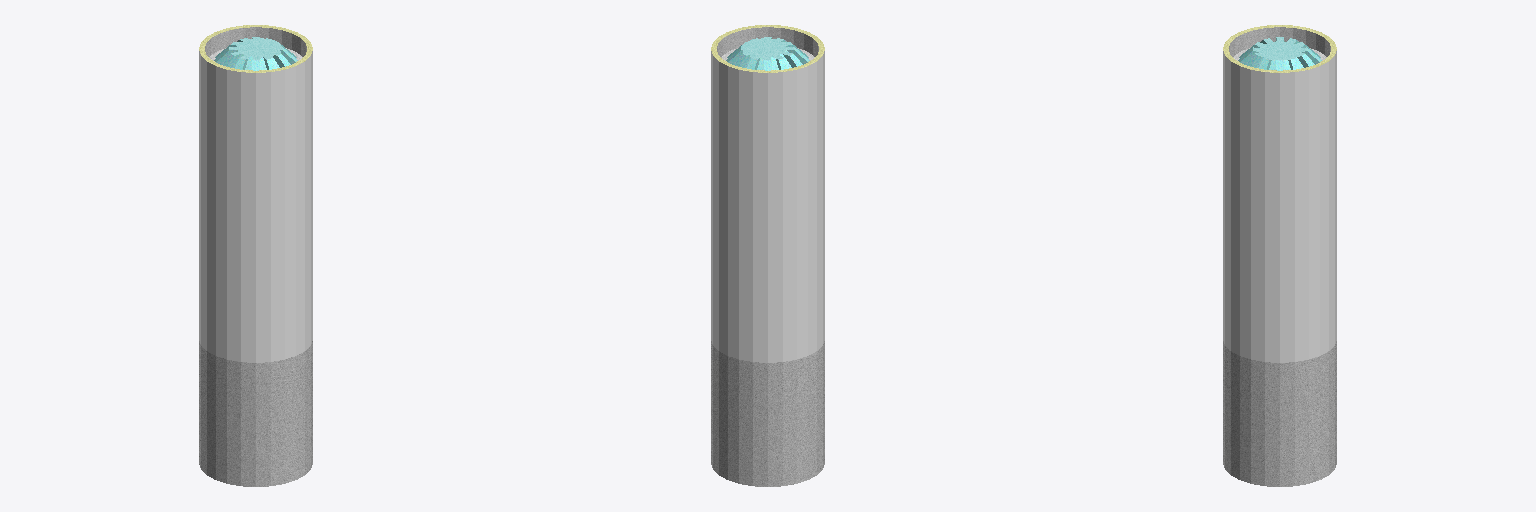
3 views of the same model, side by side, from view 1: azimuth 30°, elevation 25°; view 2: azimuth 150°, elevation 25°; view 3: azimuth 270°, elevation 25° (orthographic).
Visible parts, largest first — view 1: GF-02Tube, PG-02Shroud, PG-02DecShroud, GF-02Cap; view 2: GF-02Tube, PG-02Shroud, PG-02DecShroud, GF-02Cap; view 3: GF-02Tube, PG-02Shroud, PG-02DecShroud, GF-02Cap.
Boxes of the visible parts, x1,y1,x2,y2 form: GF-02Tube: [199, 51, 312, 362]; PG-02Shroud: [199, 341, 312, 446]; PG-02DecShroud: [199, 425, 312, 486]; GF-02Cap: [199, 25, 312, 72]; GF-02Tube: [711, 51, 824, 362]; PG-02Shroud: [711, 341, 824, 446]; PG-02DecShroud: [711, 425, 824, 486]; GF-02Cap: [711, 25, 824, 72]; GF-02Tube: [1223, 51, 1336, 362]; PG-02Shroud: [1223, 341, 1336, 446]; PG-02DecShroud: [1223, 425, 1336, 486]; GF-02Cap: [1223, 25, 1336, 72].
Size of the model in its own units: 0.625 by 2.5 by 0.625.
6 materials, 4 textured.